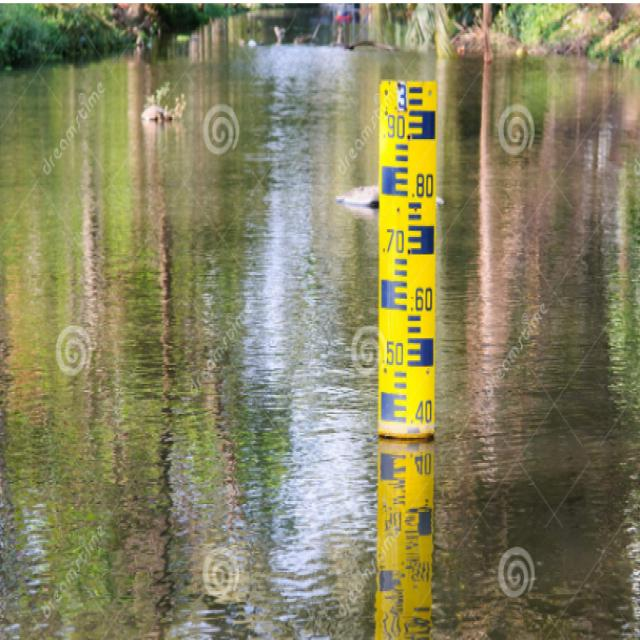ruler: (374, 67, 441, 454)
value: (406, 169, 436, 203), (406, 282, 435, 317), (379, 335, 408, 369), (407, 396, 435, 430), (379, 224, 408, 256), (384, 113, 408, 141), (395, 80, 409, 112)
